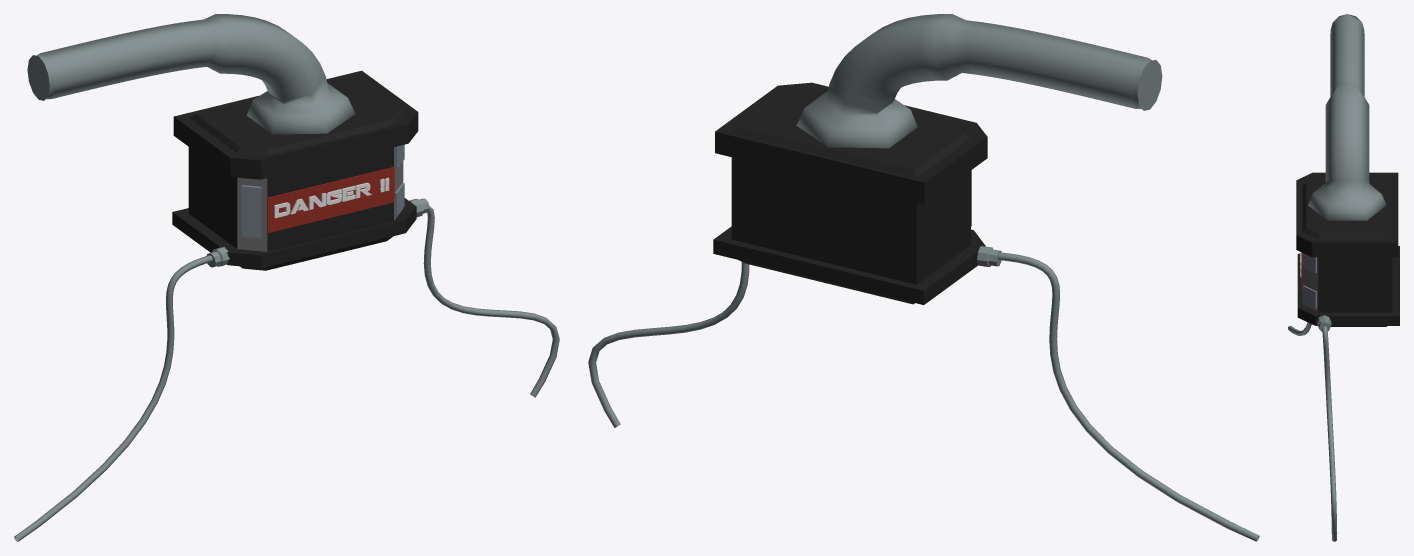
The model's file is Alternator.fbx.
3 views of the same model, side by side, from view 1: azimuth 30°, elevation 25°; view 2: azimuth 150°, elevation 25°; view 3: azimuth 270°, elevation 25° (orthographic). The views are drawn at different scales.
Parts seen in each view (by area): view 1: Alternator; view 2: Alternator; view 3: Alternator.
Part boxes in pixels (x1,y1,x2,y2): Alternator: (14, 14, 559, 541); Alternator: (588, 14, 1259, 541); Alternator: (1288, 14, 1399, 541).
Size of the model in its own units: 5.6 by 4.25 by 1.24.
